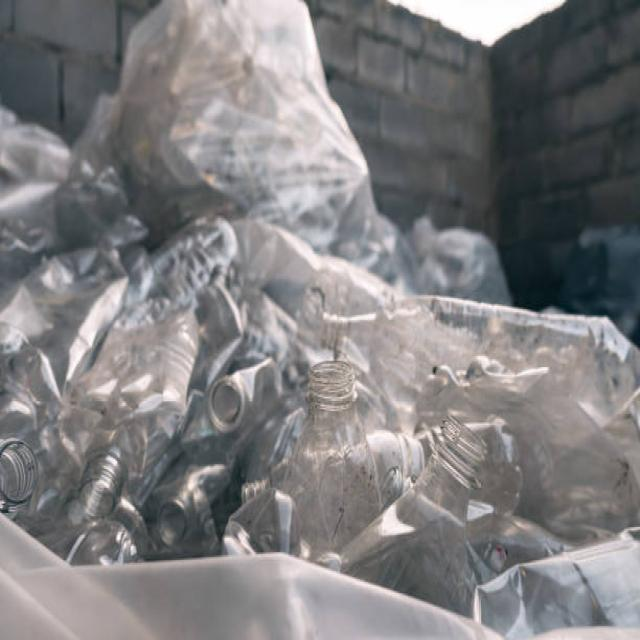plastic: (67, 259, 554, 541)
